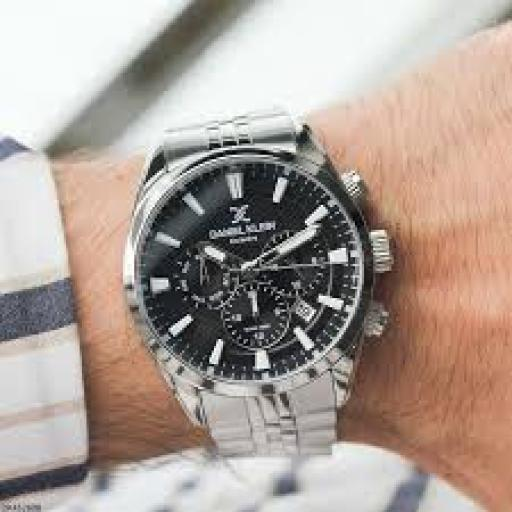KolSaati: (112, 67, 402, 449)
